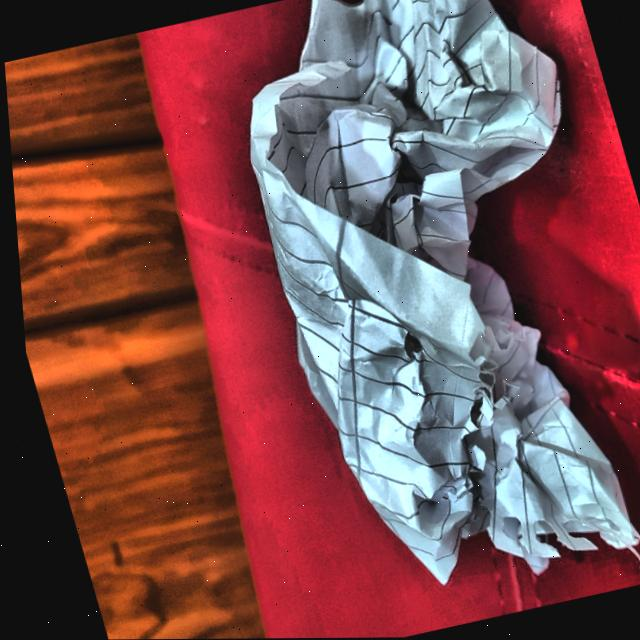paper: (199, 0, 640, 613)
